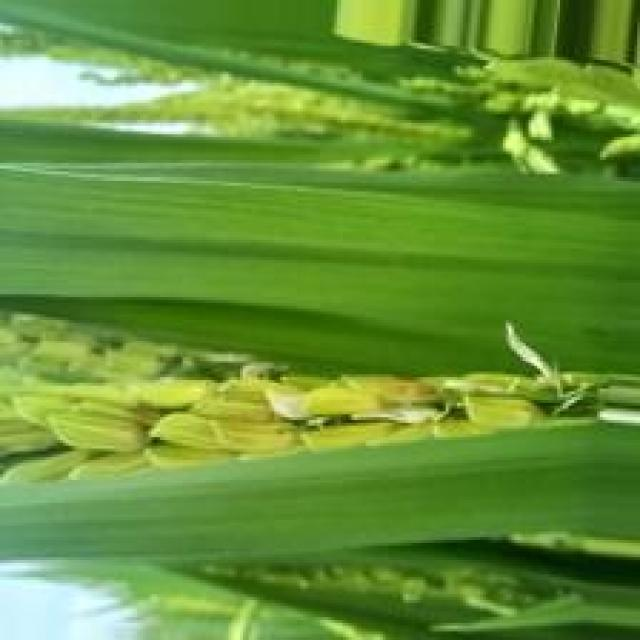HealthyLeaf: (0, 167, 640, 377), (0, 427, 640, 561)
